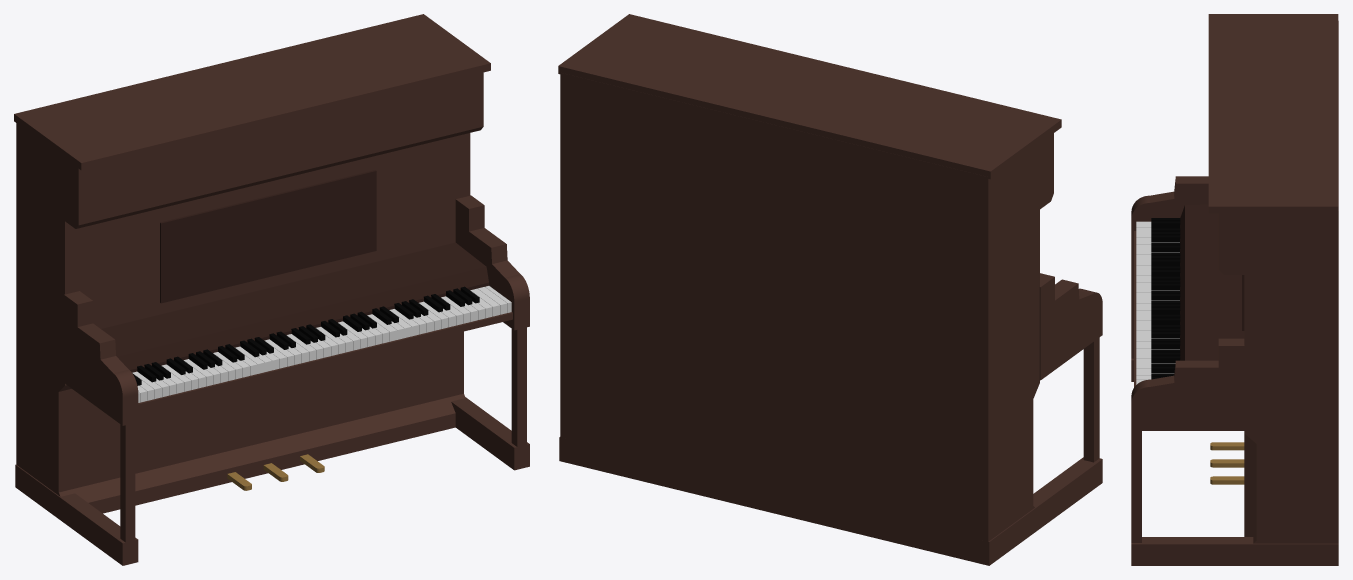
3 views of the same model, side by side, from view 1: azimuth 30°, elevation 25°; view 2: azimuth 150°, elevation 25°; view 3: azimuth 270°, elevation 25° (orthographic). The views are drawn at different scales.
Parts seen in each view (by area): view 1: cabinet, lid, inset_panel, sloped_ledge, foot_rail, foot_rail.001, key_bed; view 2: cabinet, lid, foot_rail; view 3: cabinet, lid, foot_rail.001, sloped_ledge, foot_rail, key_bed, pedal.002, pedal.003, pedal.001.
Part boxes in pixels (left/top/right/bottom): cabinet: left=16, top=72, right=483, bottom=513; lid: left=14, top=14, right=490, bottom=170; inset_panel: left=160, top=170, right=376, bottom=303; sloped_ledge: left=101, top=242, right=488, bottom=372; foot_rail: left=15, top=291, right=138, bottom=565; foot_rail.001: left=451, top=195, right=529, bottom=470; key_bed: left=138, top=312, right=512, bottom=410; cabinet: left=560, top=72, right=1053, bottom=561; lid: left=558, top=14, right=1061, bottom=179; foot_rail: left=973, top=273, right=1102, bottom=565; cabinet: left=1218, top=21, right=1338, bottom=543; lid: left=1208, top=14, right=1338, bottom=213; foot_rail.001: left=1131, top=338, right=1338, bottom=565; sloped_ledge: left=1180, top=204, right=1244, bottom=360; foot_rail: left=1131, top=176, right=1208, bottom=381; key_bed: left=1134, top=231, right=1136, bottom=387; pedal.002: left=1210, top=459, right=1244, bottom=467; pedal.003: left=1210, top=476, right=1244, bottom=484; pedal.001: left=1210, top=442, right=1244, bottom=450.
Size of the model in its own units: 1.5 by 1.31 by 0.6821.
